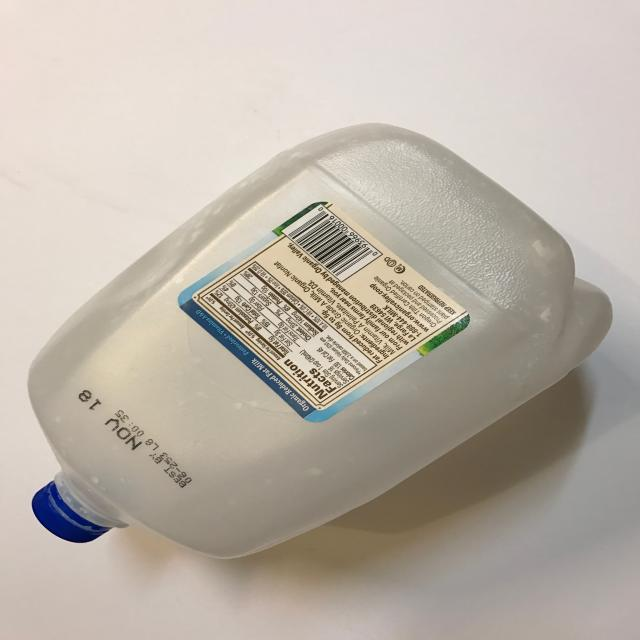plastic: (22, 120, 617, 562)
